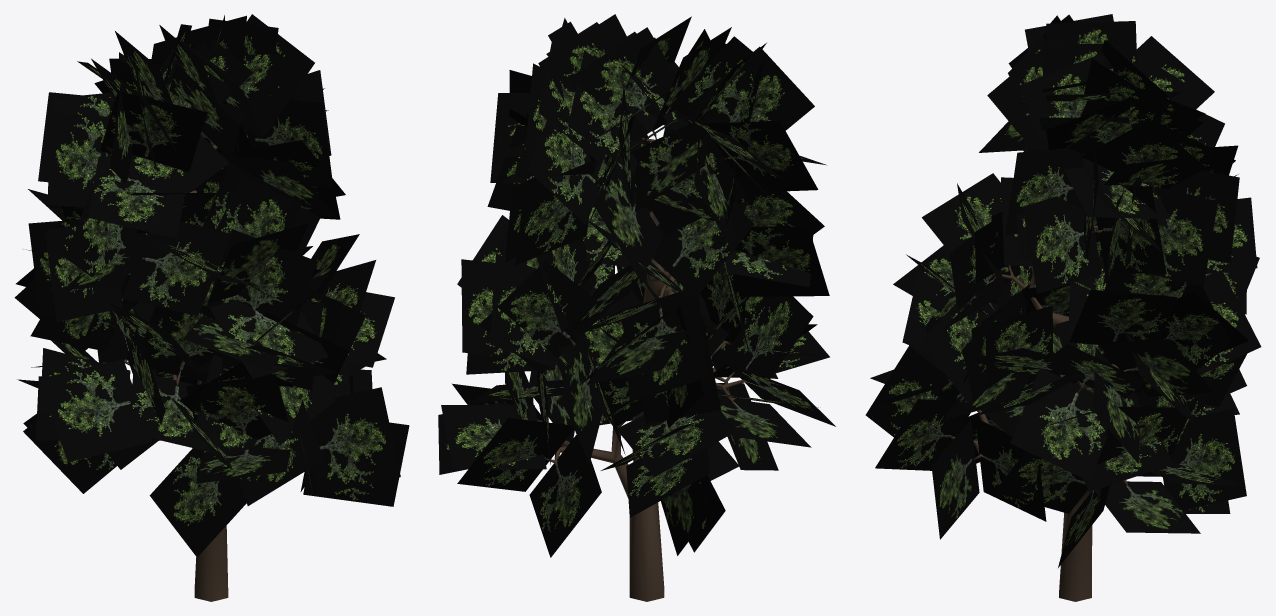
Rendered from sample_tree_1.gltf.
3 views of the same model, side by side, from view 1: azimuth 30°, elevation 25°; view 2: azimuth 150°, elevation 25°; view 3: azimuth 270°, elevation 25° (orthographic). The views are drawn at different scales.
Visible parts, largest first — view 1: mesh_1, mesh_0; view 2: mesh_1, mesh_0; view 3: mesh_1, mesh_0.
Part boxes in pixels (x1,y1,x2,y2): mesh_1: [14, 14, 409, 557]; mesh_0: [124, 131, 248, 601]; mesh_1: [438, 14, 835, 557]; mesh_0: [537, 130, 749, 601]; mesh_1: [865, 14, 1261, 567]; mesh_0: [949, 225, 1128, 601].
Size of the model in its own units: 6.07 by 9.44 by 6.19.
Materials: 2 (1 with a texture image).
